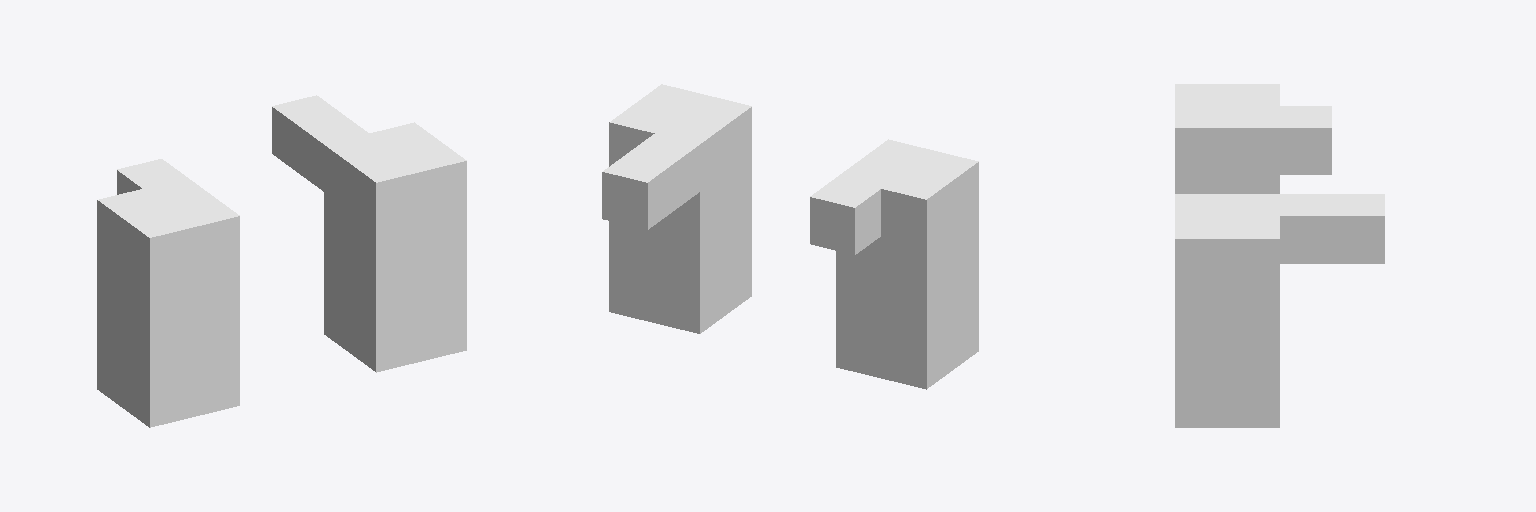
Rendered from DuoCherryrod1.obj.
The picture shows the model from 3 angles: view 1: azimuth 30°, elevation 25°; view 2: azimuth 150°, elevation 25°; view 3: azimuth 270°, elevation 25°; orthographic projection.
Parts seen in each view (by area): view 1: object 1; view 2: object 1; view 3: object 1.
Boxes of the visible parts, x1=… form: object 1: x1=97, y1=95, x2=466, y2=427; object 1: x1=602, y1=84, x2=978, y2=389; object 1: x1=1175, y1=84, x2=1384, y2=427.
Size of the model in its own units: 0.7 by 0.4 by 0.4.